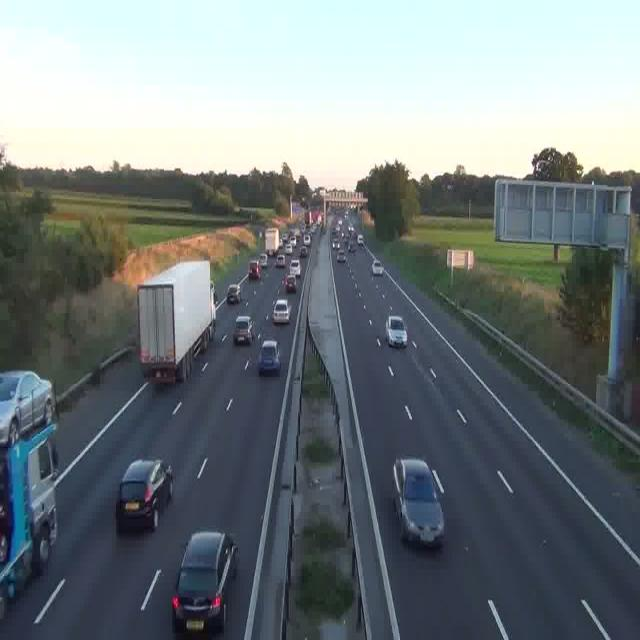bus: (264, 228, 280, 256)
car: (172, 530, 236, 634), (392, 458, 445, 546), (115, 458, 174, 532), (258, 342, 282, 374), (386, 314, 406, 346), (234, 316, 254, 345), (272, 300, 290, 324), (228, 284, 242, 304), (247, 260, 260, 280), (284, 274, 296, 292), (371, 258, 382, 274), (292, 260, 302, 276), (274, 254, 285, 267), (299, 245, 308, 258), (336, 249, 344, 262), (300, 236, 308, 249), (356, 234, 364, 245)
truck: (0, 370, 60, 618), (136, 259, 216, 382)
